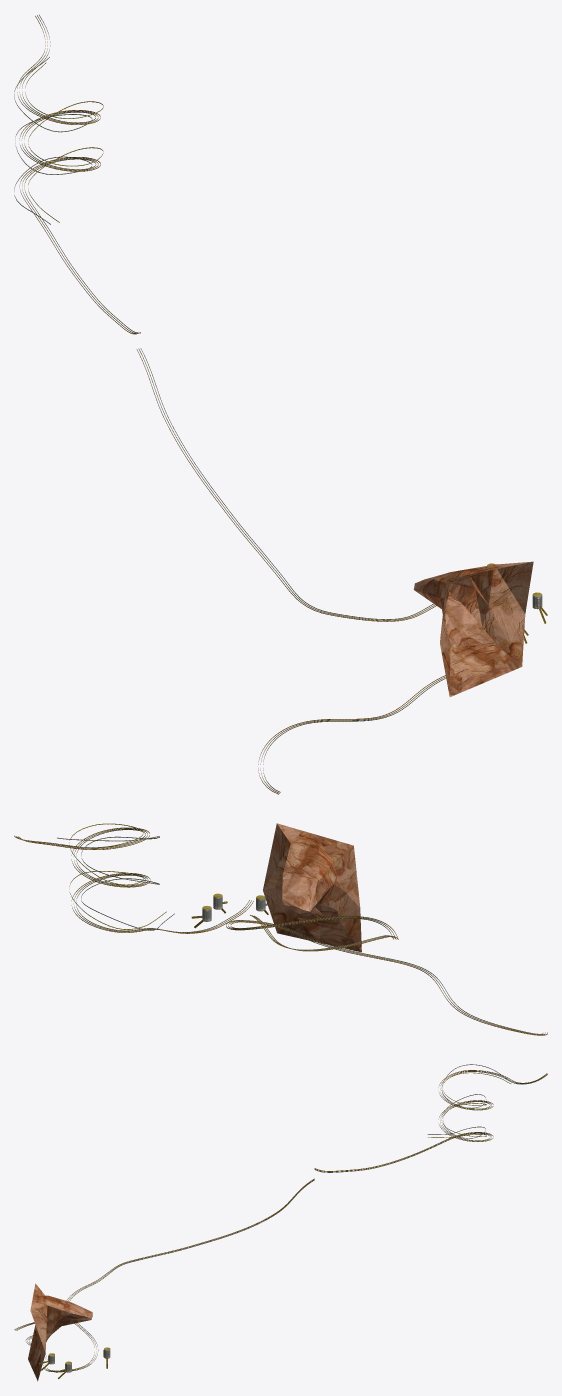
Rendered from railcanyon3.obj.
3 views of the same model, one above another, from view 1: azimuth 30°, elevation 25°; view 2: azimuth 150°, elevation 25°; view 3: azimuth 270°, elevation 25° (orthographic). The views are drawn at different scales.
Visible parts, largest first — view 1: Object_2; view 2: Object_2; view 3: Object_2.
Part boxes in pixels (x1=…): Object_2: x1=14, y1=14, x2=547, y2=794; Object_2: x1=14, y1=823, x2=547, y2=1035; Object_2: x1=14, y1=1064, x2=547, y2=1381.
Size of the model in its own units: 4422 by 6209 by 9793.
Materials: 13 (13 with a texture image).
